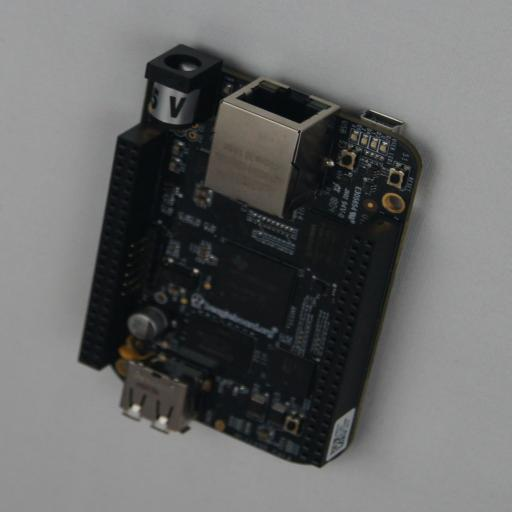Beaglebone Black: (78, 44, 431, 468)
